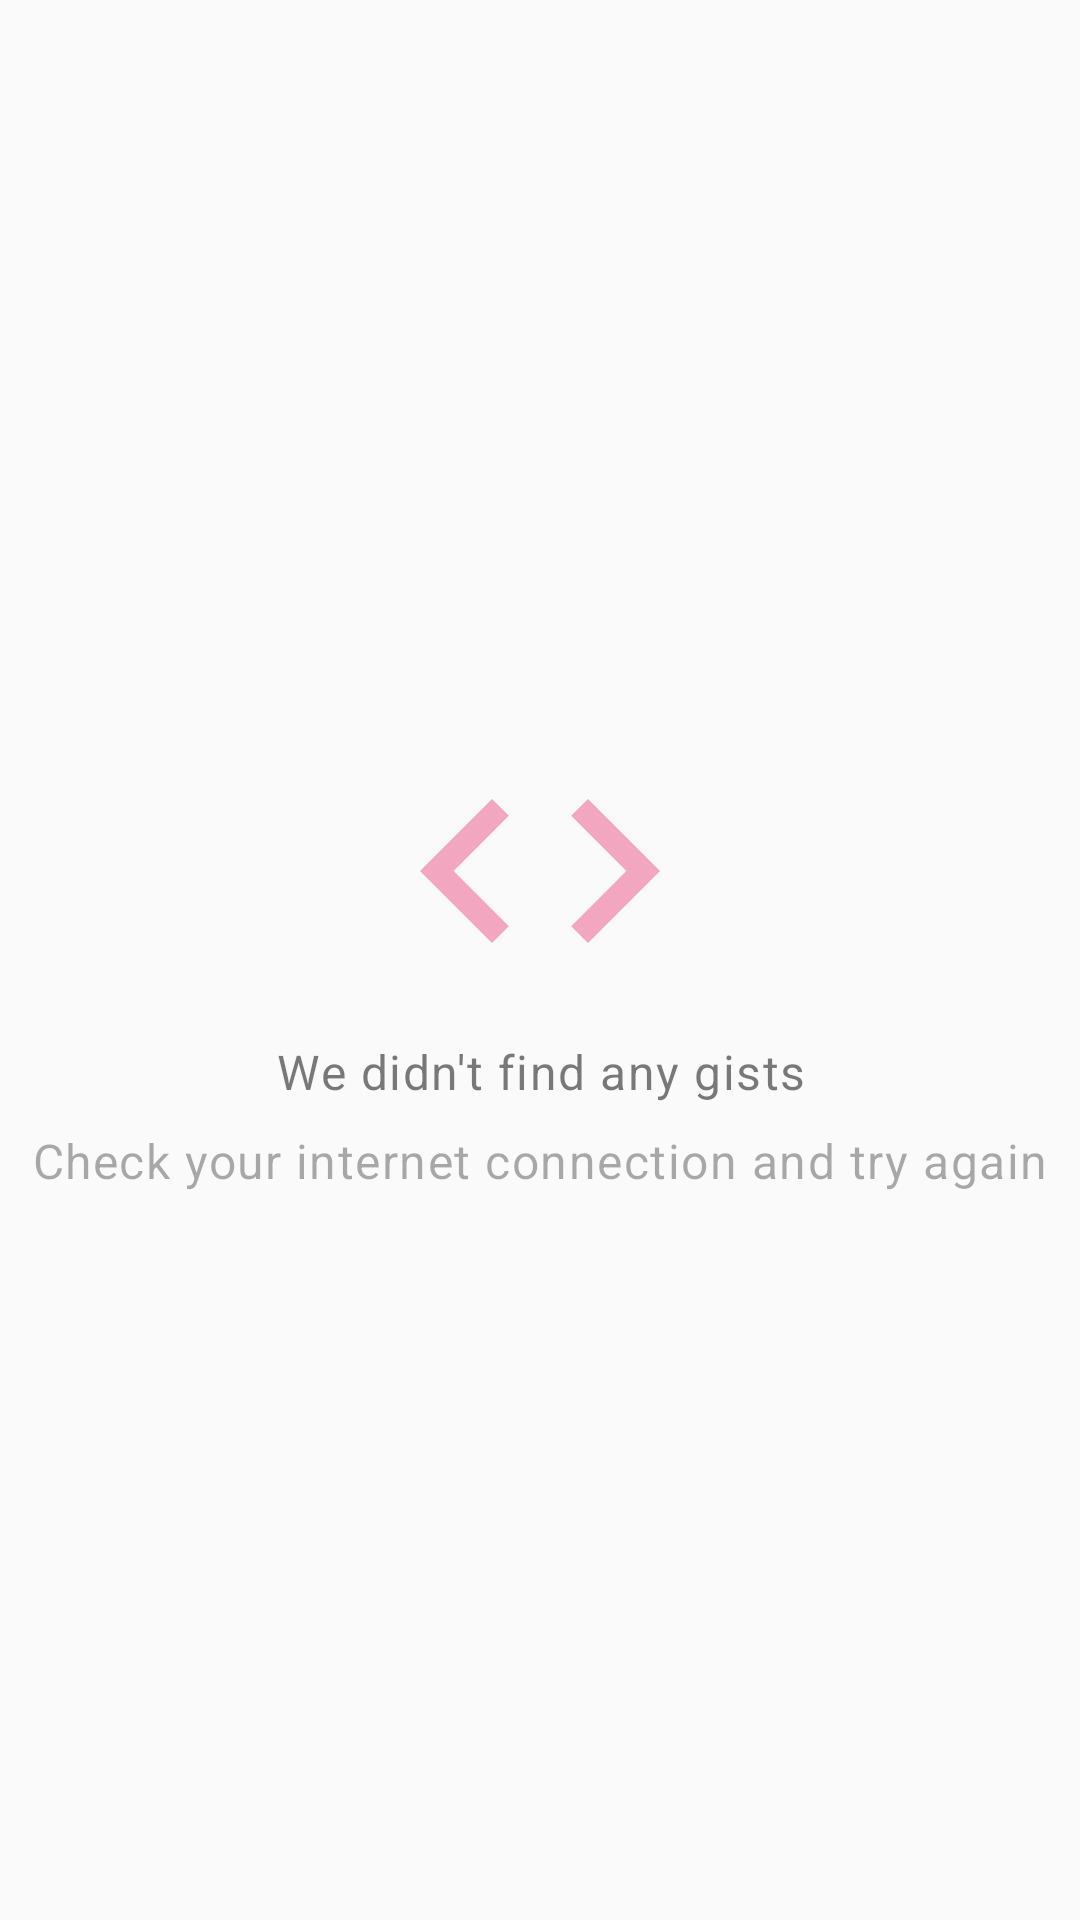

Icons on this 1080px×1920px Android screen, each with the point to tap as (x,y):
Empty list image: (540,871)
